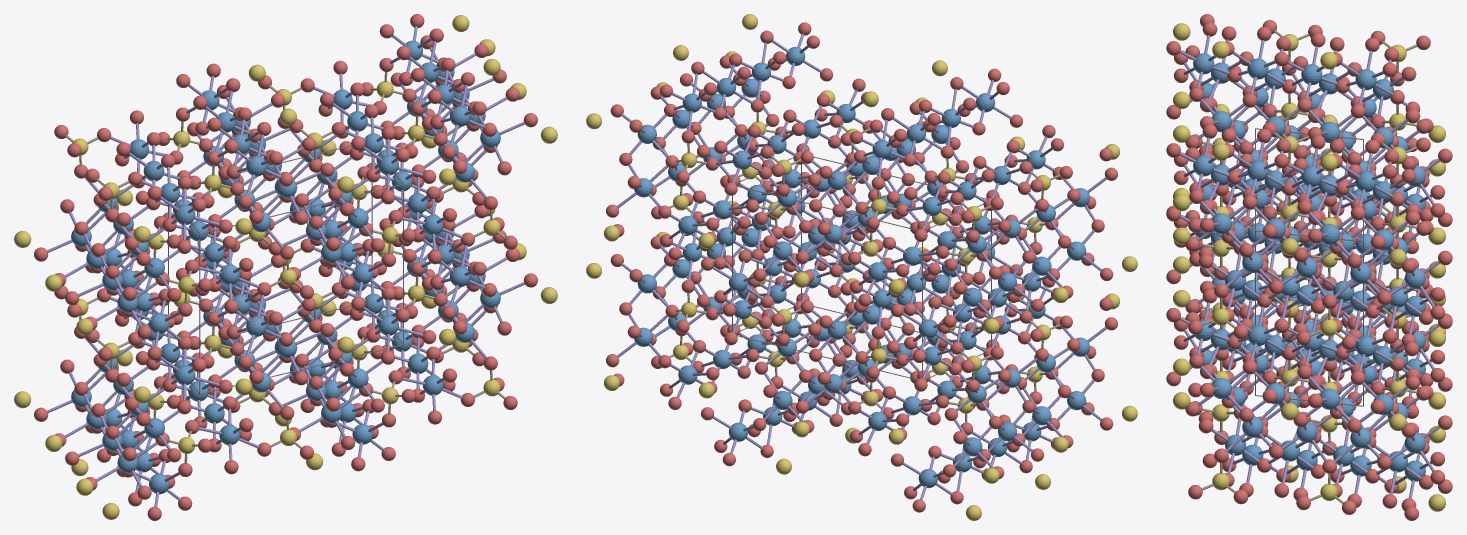
File: Basic_copper_sulfate_brochantite_AR.glb
3 views of the same model, side by side, from view 1: azimuth 30°, elevation 25°; view 2: azimuth 150°, elevation 25°; view 3: azimuth 270°, elevation 25° (orthographic). The views are drawn at different scales.
Visible parts, largest first — view 1: O_atoms, Cu_atoms, Cu_O_coordination, S_atoms, S_O_bonds, unit_cell_outline; view 2: O_atoms, Cu_atoms, Cu_O_coordination, S_atoms, S_O_bonds, unit_cell_outline; view 3: O_atoms, Cu_atoms, Cu_O_coordination, S_atoms, S_O_bonds, unit_cell_outline.
Part boxes in pixels (x1,y1,x2,y2): O_atoms: [34, 14, 537, 520]; Cu_atoms: [71, 40, 500, 494]; Cu_O_coordination: [47, 26, 524, 506]; S_atoms: [14, 15, 557, 519]; S_O_bonds: [65, 72, 505, 464]; unit_cell_outline: [168, 145, 403, 394]; O_atoms: [606, 22, 1117, 512]; Cu_atoms: [634, 46, 1089, 488]; Cu_O_coordination: [617, 33, 1106, 499]; S_atoms: [586, 14, 1137, 520]; S_O_bonds: [669, 112, 1060, 423]; unit_cell_outline: [732, 156, 991, 379]; O_atoms: [1166, 14, 1452, 520]; Cu_atoms: [1193, 53, 1425, 481]; Cu_O_coordination: [1179, 35, 1439, 498]; S_atoms: [1173, 23, 1445, 511]; S_O_bonds: [1202, 30, 1417, 503]; unit_cell_outline: [1255, 128, 1363, 406].
Size of the model in its own units: 32.4 by 24.58 by 15.55.
